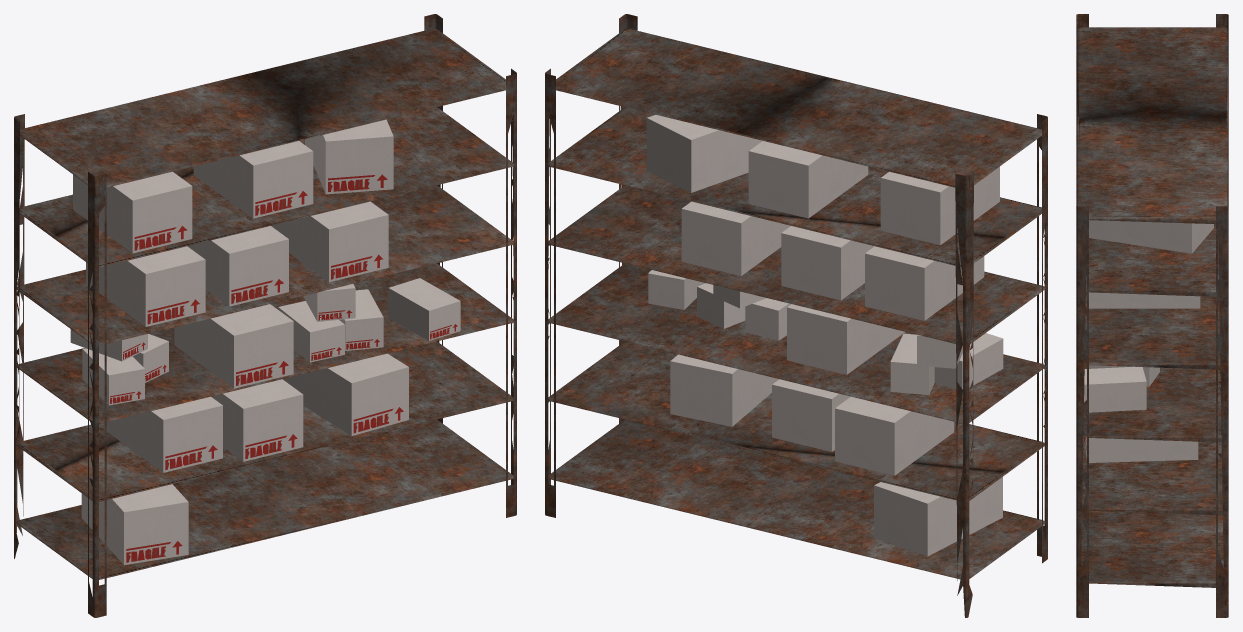
The model's file is rusty_metal_shelving.glb.
3 views of the same model, side by side, from view 1: azimuth 30°, elevation 25°; view 2: azimuth 150°, elevation 25°; view 3: azimuth 270°, elevation 25° (orthographic). The views are drawn at different scales.
Visible parts, largest first — view 1: Material2 (×27); view 2: Material2 (×26); view 3: Material2 (×15).
Boxes of the visible parts, bbox=[...] form: Material2 (×27): bbox=[14, 29, 516, 617]; Material2 (×26): bbox=[545, 29, 1047, 617]; Material2 (×15): bbox=[1076, 14, 1228, 617].
Bounding box in the file's own units: 72.13 × 72 × 24.13.
Materials: 4 (3 with a texture image).
